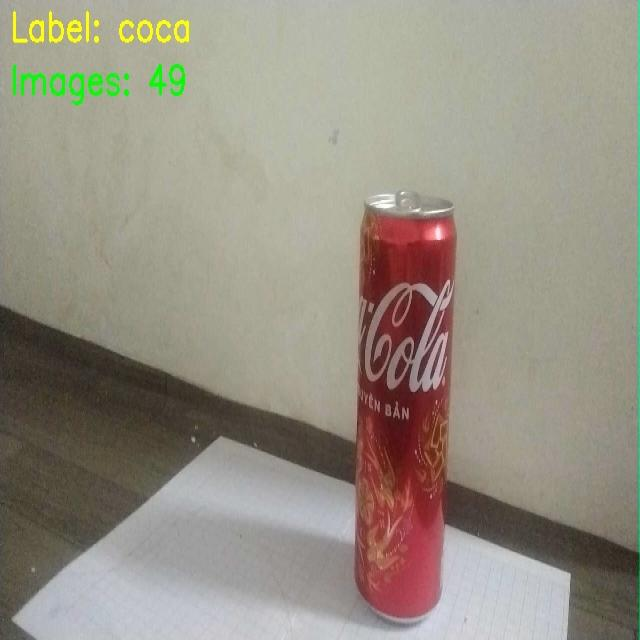Coca: (332, 171, 492, 637)
